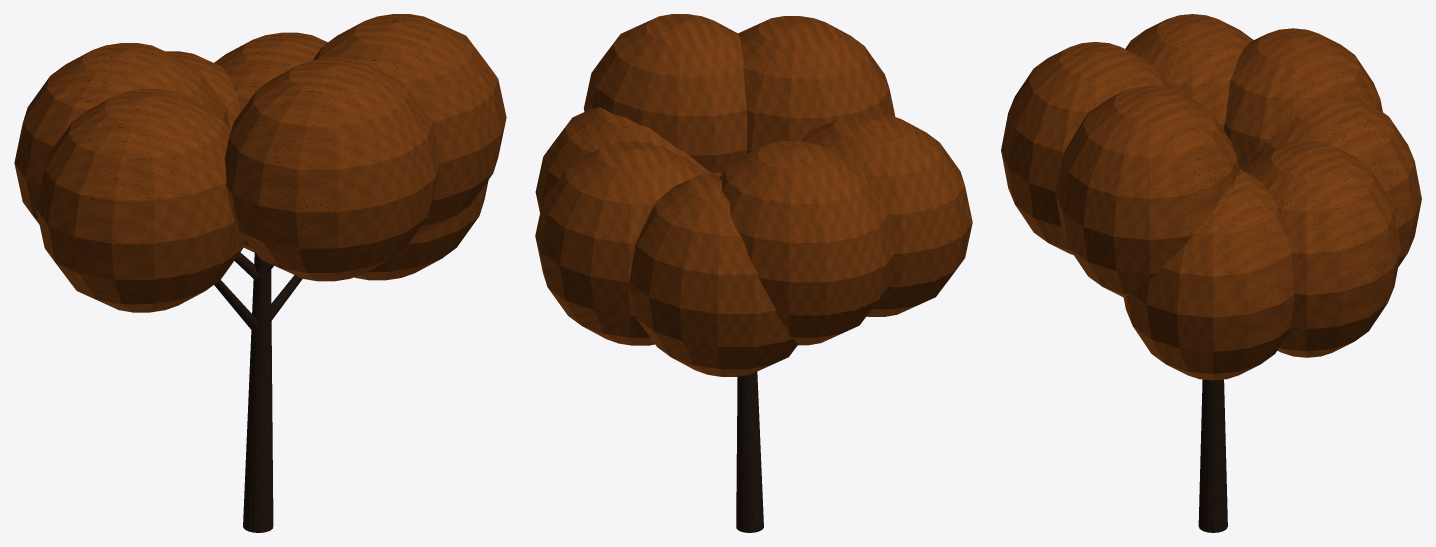
The model's file is PROP-361C75B756FE_lod0.glb.
3 views of the same model, side by side, from view 1: azimuth 30°, elevation 25°; view 2: azimuth 150°, elevation 25°; view 3: azimuth 270°, elevation 25° (orthographic). The views are drawn at different scales.
Visible parts, largest first — view 1: leaf_crown.080, trunk.073, branch.045; view 2: leaf_crown.080, trunk.073; view 3: leaf_crown.080, trunk.073.
Part boxes in pixels (bbox=[...]): leaf_crown.080: bbox=[14, 14, 506, 312]; trunk.073: bbox=[243, 252, 273, 532]; branch.045: bbox=[214, 252, 302, 332]; leaf_crown.080: bbox=[535, 14, 972, 376]; trunk.073: bbox=[736, 372, 763, 532]; leaf_crown.080: bbox=[1001, 14, 1421, 380]; trunk.073: bbox=[1198, 379, 1227, 532].
Bounding box in the file's own units: 8.02 × 8.67 × 6.89.
2 materials, 2 textured.
